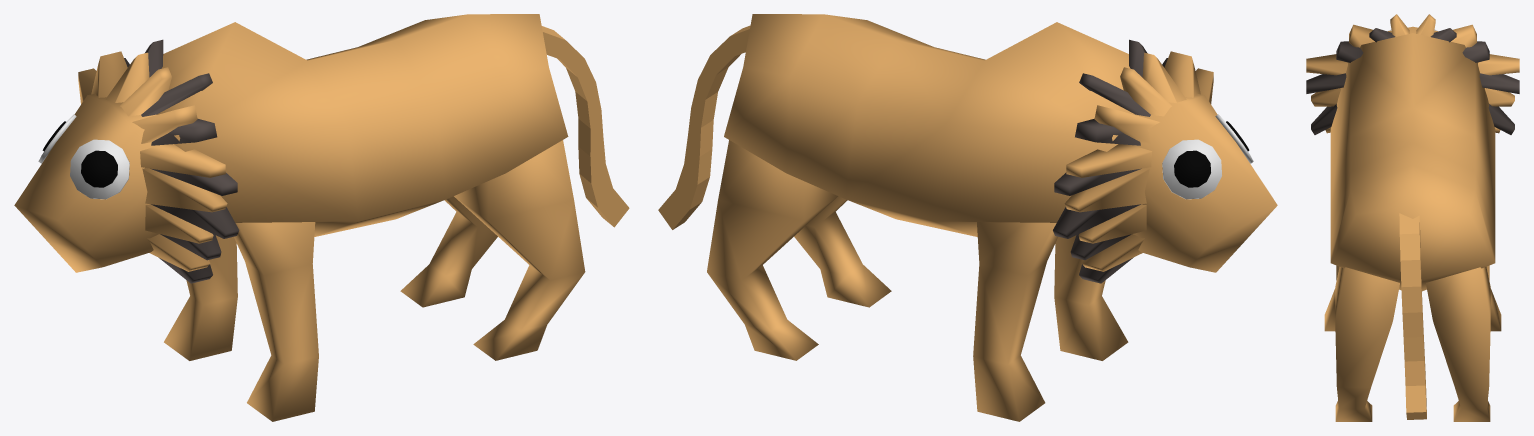
Rendered from M_Animal_Lion.fbx.
3 views of the same model, side by side, from view 1: azimuth 30°, elevation 25°; view 2: azimuth 150°, elevation 25°; view 3: azimuth 270°, elevation 25° (orthographic). The views are drawn at different scales.
Parts seen in each view (by area): view 1: M_Animal_Lion; view 2: M_Animal_Lion; view 3: M_Animal_Lion.
Part boxes in pixels (bbox=[...]): M_Animal_Lion: bbox=[14, 14, 629, 421]; M_Animal_Lion: bbox=[658, 14, 1277, 421]; M_Animal_Lion: bbox=[1306, 14, 1519, 421].
Bounding box in the file's own units: 58.8 × 87.58 × 157.
